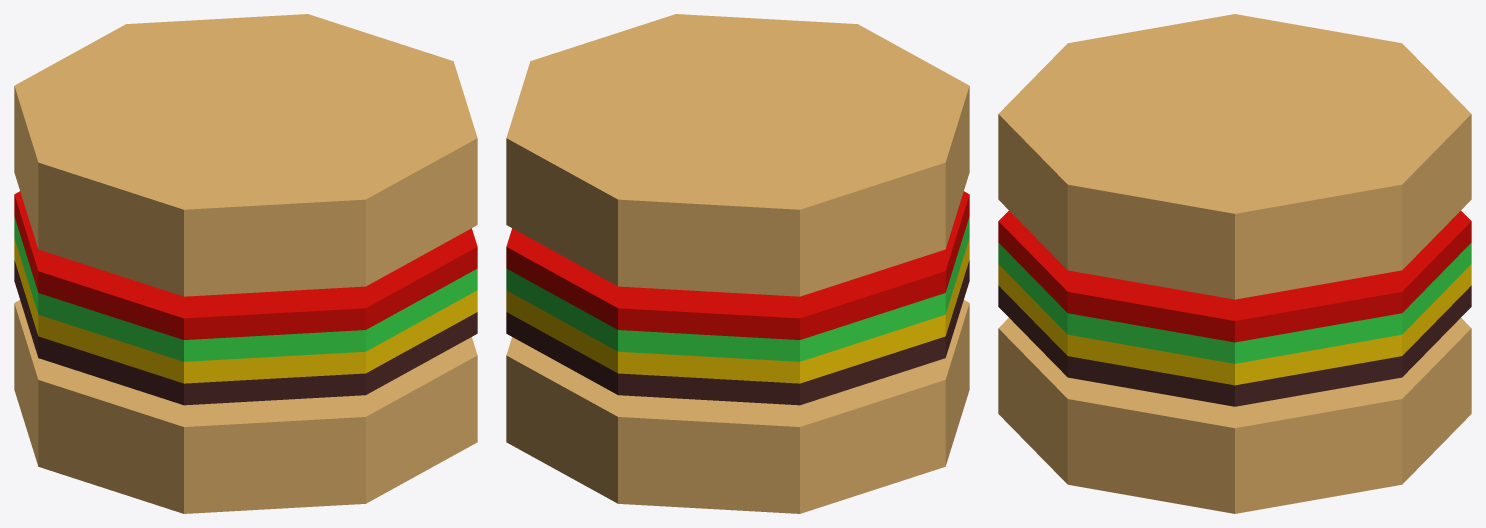
Rendered from burger.glb.
3 renders of one model, left to right at view 1: azimuth 30°, elevation 25°; view 2: azimuth 150°, elevation 25°; view 3: azimuth 270°, elevation 25°, orthographic.
Visible parts, largest first — view 1: Cylinder, Cylinder.002; view 2: Cylinder, Cylinder.002; view 3: Cylinder, Cylinder.002.
Boxes of the visible parts, x1,y1,x2,y2 form: Cylinder: (14, 14, 477, 513); Cylinder.002: (14, 191, 477, 405); Cylinder: (506, 14, 969, 513); Cylinder.002: (506, 191, 969, 405); Cylinder: (998, 14, 1471, 513); Cylinder.002: (998, 211, 1471, 406).
Size of the model in its own units: 2 by 1.4 by 2.
